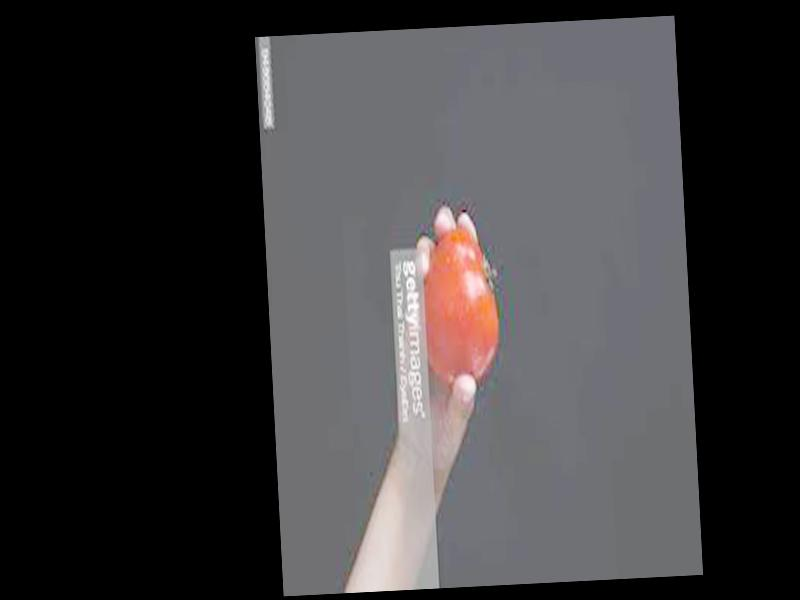Tomato: (417, 221, 501, 381)
